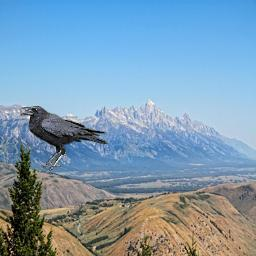Crow: (20, 106, 108, 171)
